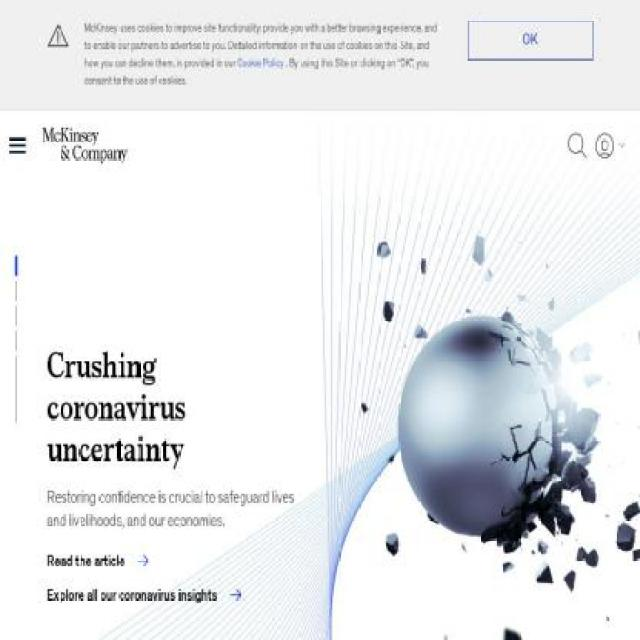button: (467, 20, 593, 60), (0, 110, 35, 178)
